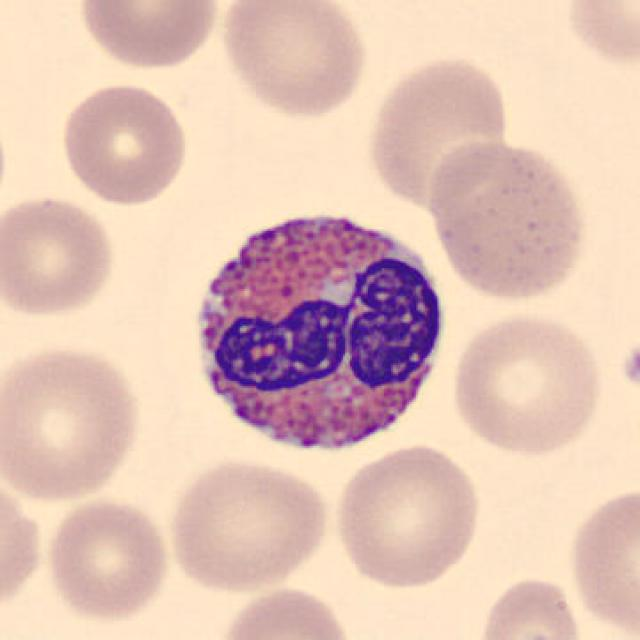Eosinophil: (176, 190, 460, 472)
Platelets: (618, 336, 640, 398)
RBC: (425, 136, 590, 307), (362, 51, 514, 212), (0, 339, 146, 506), (446, 308, 606, 458), (329, 439, 485, 591), (164, 453, 332, 594), (217, 0, 371, 122), (55, 79, 192, 208), (43, 494, 174, 626), (0, 190, 119, 322), (562, 482, 638, 636), (73, 0, 224, 72), (215, 582, 359, 640), (473, 573, 587, 640), (0, 468, 48, 622), (558, 0, 638, 74)
